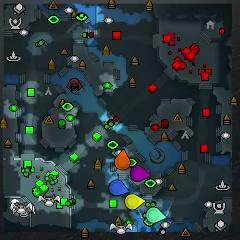p1: (110, 180, 129, 195)
p2: (147, 208, 166, 223)
p3: (131, 165, 150, 181)
p4: (125, 194, 145, 209)
p5: (114, 150, 130, 170)
